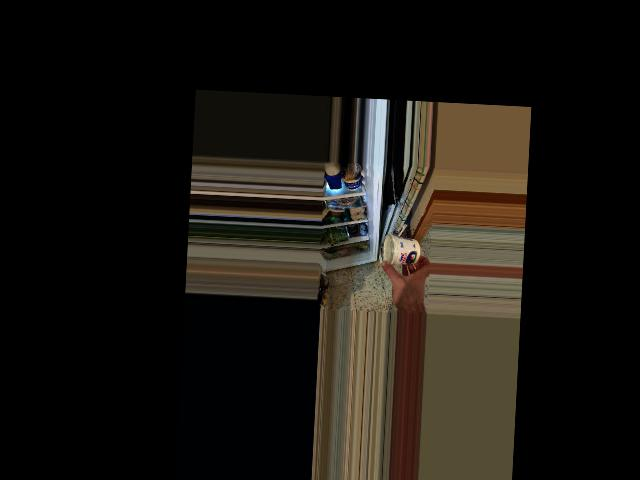cotage: (389, 241, 421, 266)
